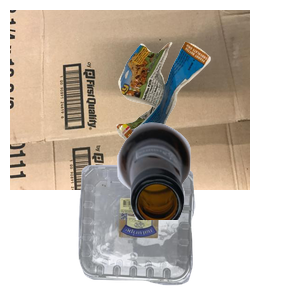cardboard: (10, 10, 250, 190)
glass: (115, 120, 300, 300)
plastic: (76, 162, 264, 300)
trash: (114, 39, 300, 188)
